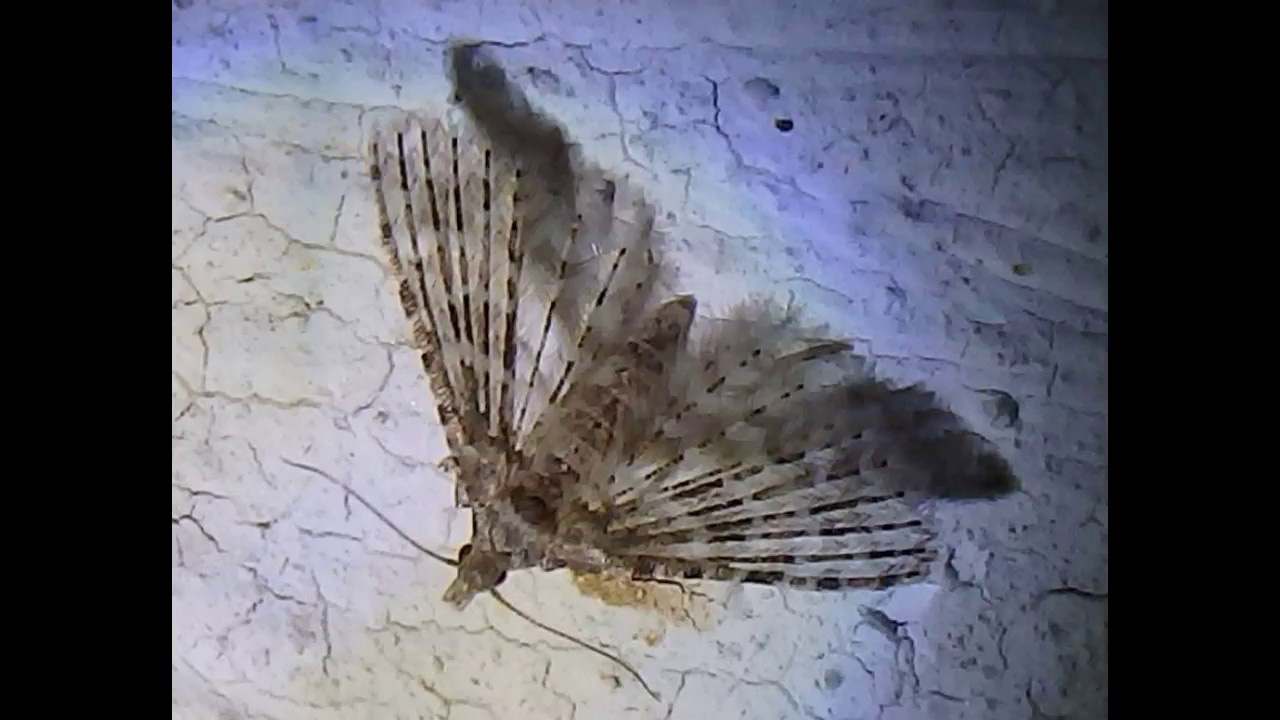Alucitidae: (268, 106, 970, 694)
moth: (281, 84, 959, 703)
